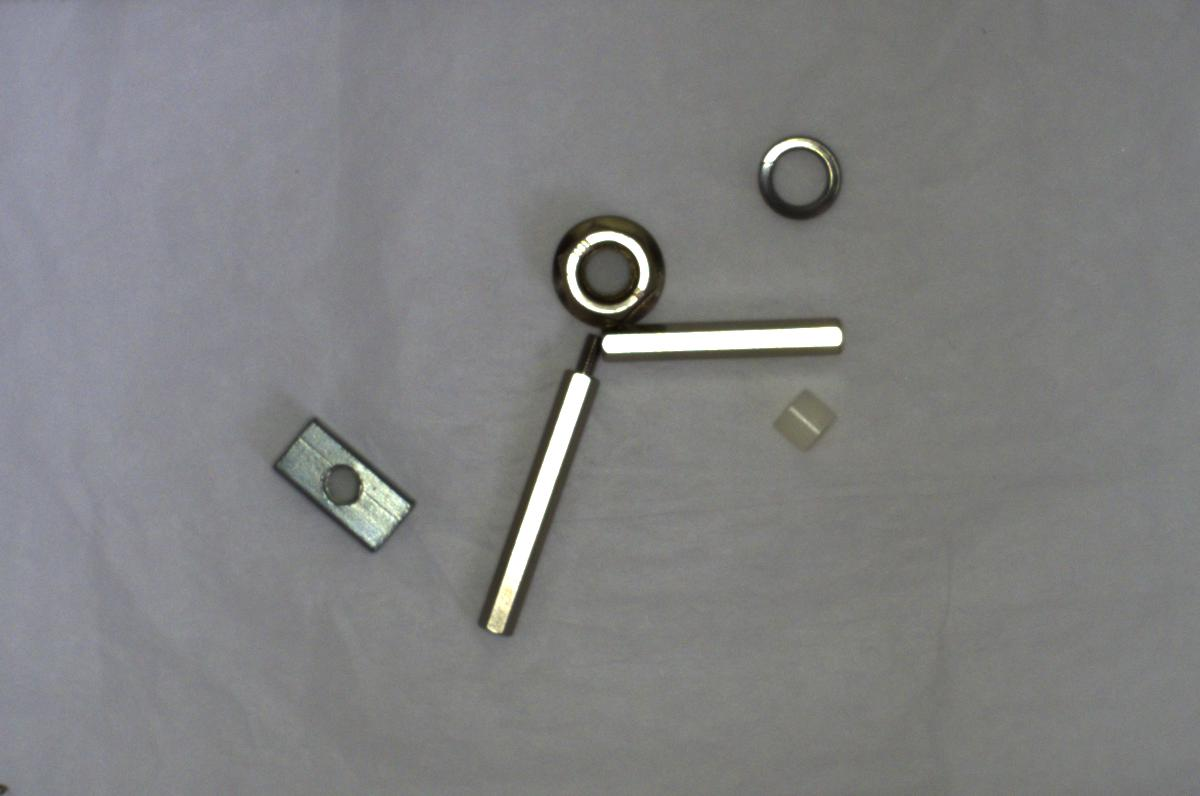Double hexagonal column: (593, 310, 851, 366)
Flange nut: (547, 206, 670, 327)
Hexagonal steel column: (454, 327, 606, 647)
Plastic cushion pillar: (771, 385, 837, 452)
Rectangular nut: (267, 408, 422, 560)
Spring washer: (746, 120, 841, 225)
